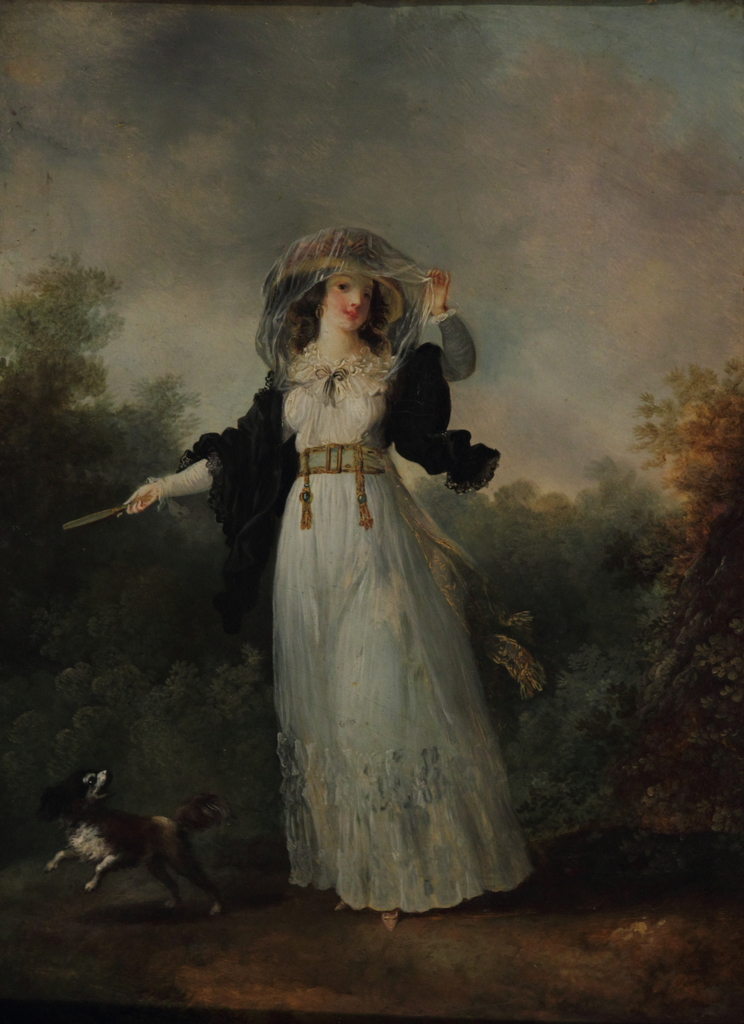Animal: (37, 747, 228, 920)
